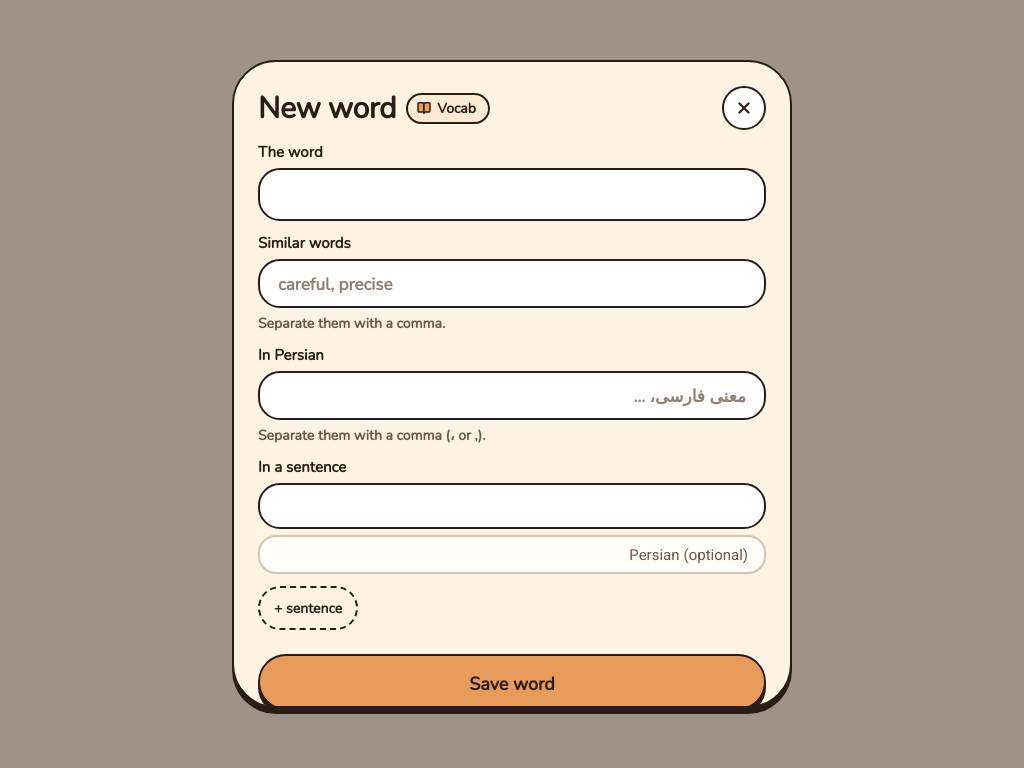
Test: A word already in this deck (canvas N5) › the same word in another deck is not a duplicate
Check: the dialog is shown, box [232,60,792,708]
Type "brave" into the field labelled "The word" at (512, 194), box [258,168,766,221]
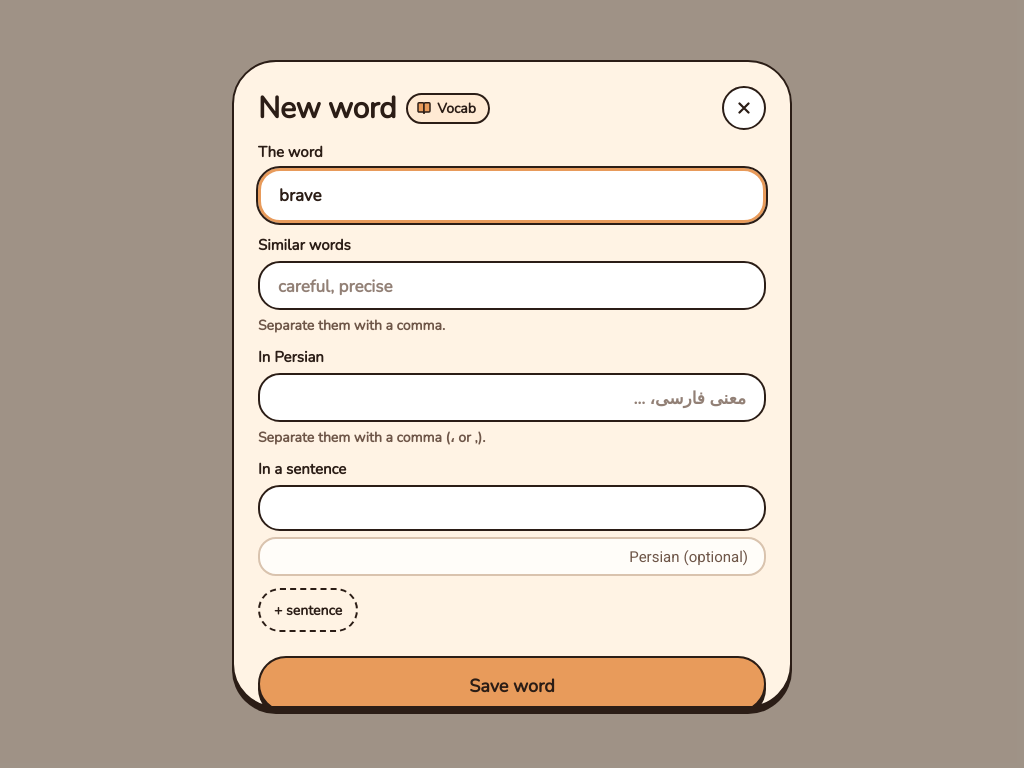
Type "calm" into the text box labelled "Similar words" at (512, 286), box [258,261,766,310]
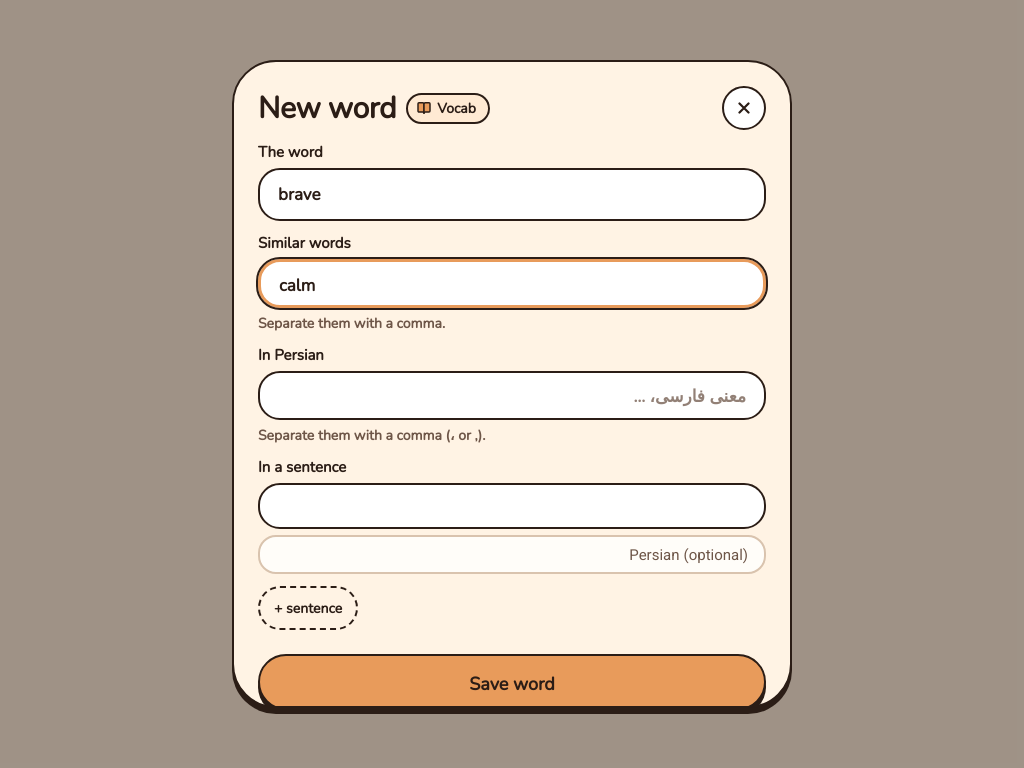
Type "آرام" into the text box labelled "In Persian" at (512, 396), box [258,371,766,420]
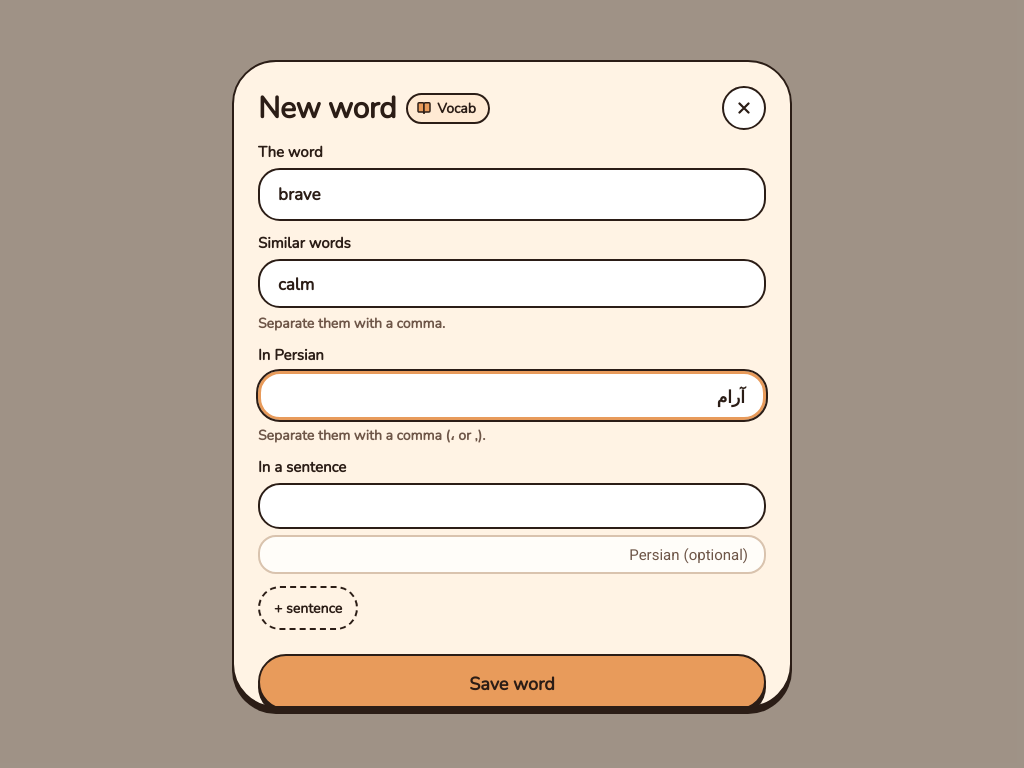
Type "Stay calm." into the text box named "Sentence 1" at (512, 506), box [258,483,766,529]
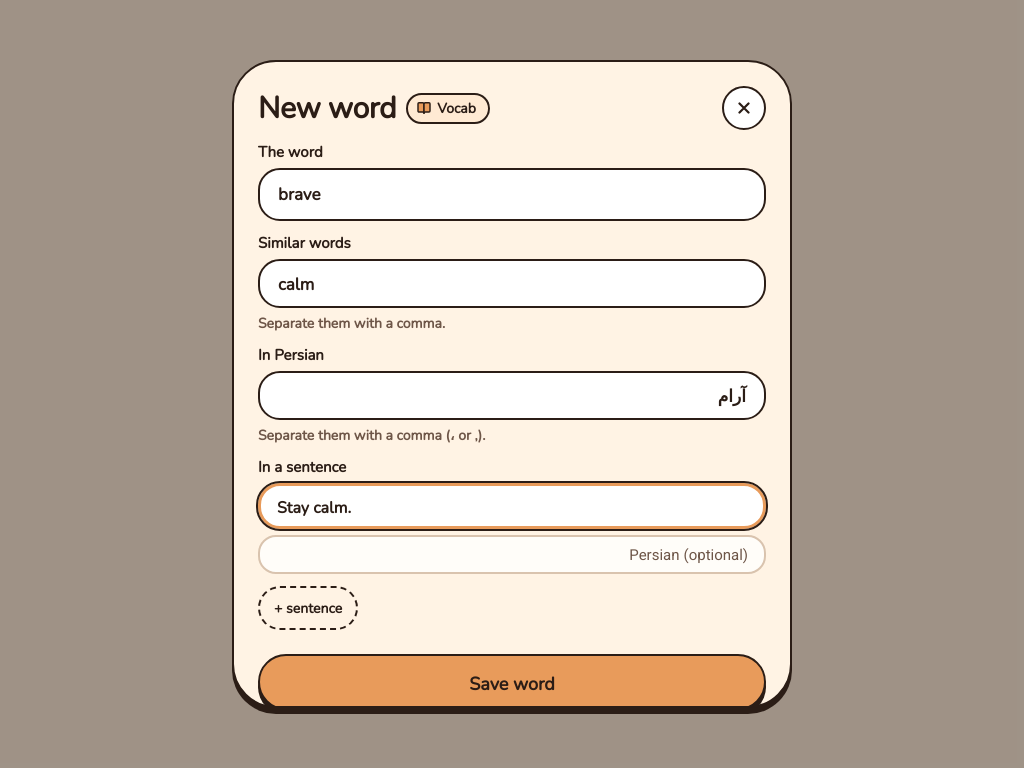
Press Tab
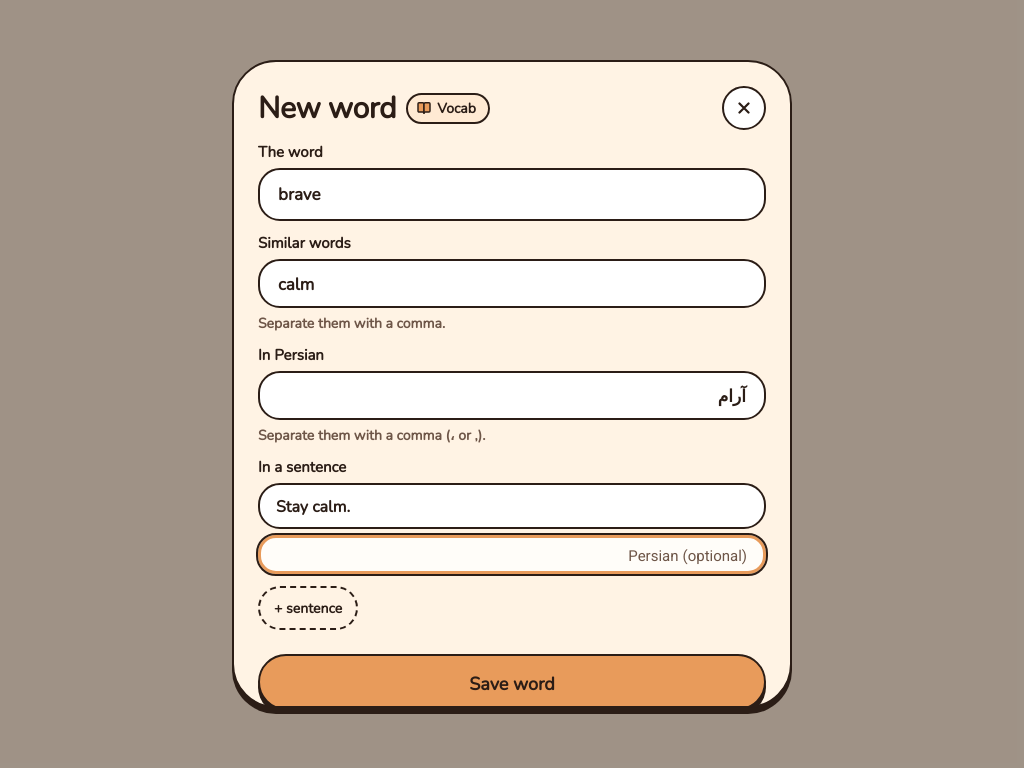
Click the button "Save word" at (512, 682), box [258,654,766,710]
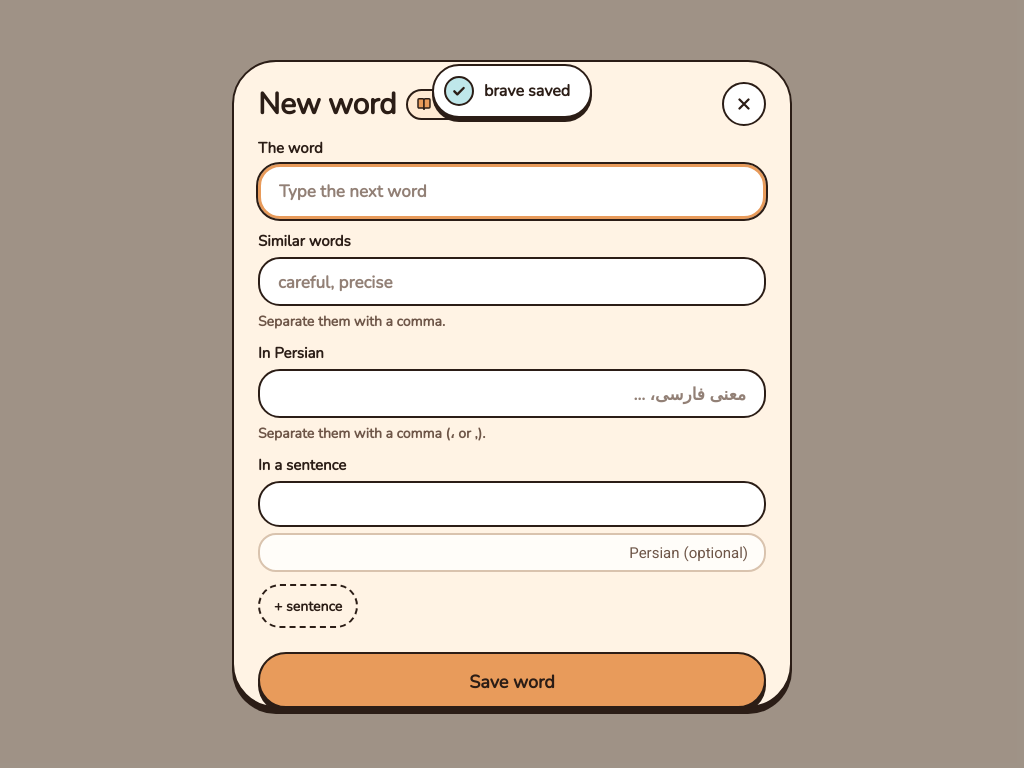
Check: the message reads "brave saved", box [432,64,592,118]
